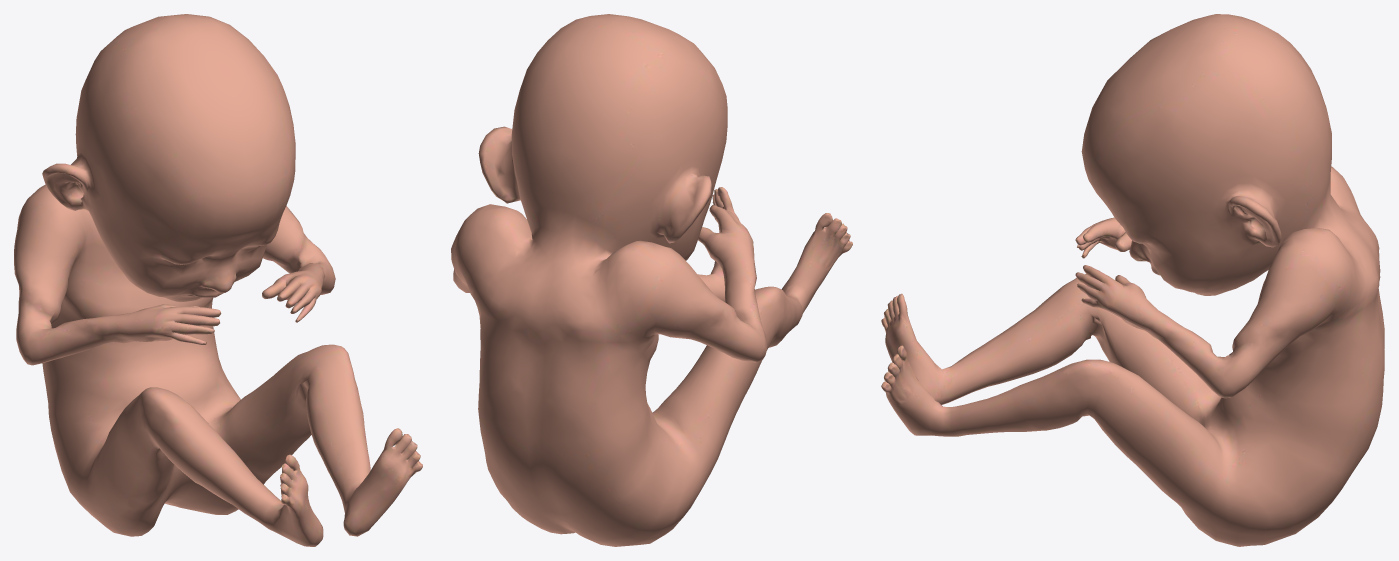
The picture shows the model from 3 angles, left to right: view 1: azimuth 30°, elevation 25°; view 2: azimuth 150°, elevation 25°; view 3: azimuth 270°, elevation 25°; orthographic projection.
Visible parts, largest first — view 1: Baby; view 2: Baby; view 3: Baby.
Part boxes in pixels (x1,y1,x2,y2): Baby: [14, 14, 422, 546]; Baby: [451, 14, 852, 546]; Baby: [881, 14, 1384, 546].
Size of the model in its own units: 0.1676 by 0.2609 by 0.2382.
1 material, 1 textured.
